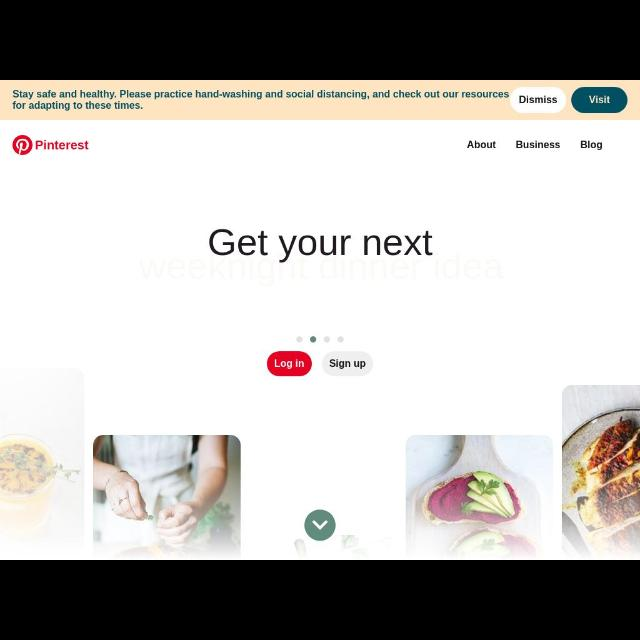backgroundimage: (2, 119, 638, 559)
button: (306, 510, 336, 540)
icon: (310, 517, 330, 533)
iframe: (1, 82, 637, 118)
image: (13, 130, 93, 156)
pageindicator: (294, 334, 348, 344)
text: (208, 231, 436, 259), (516, 140, 562, 150), (329, 359, 366, 369), (578, 140, 606, 152), (466, 140, 498, 150), (274, 359, 306, 369)
textbutton: (326, 352, 370, 373), (266, 354, 312, 374)
